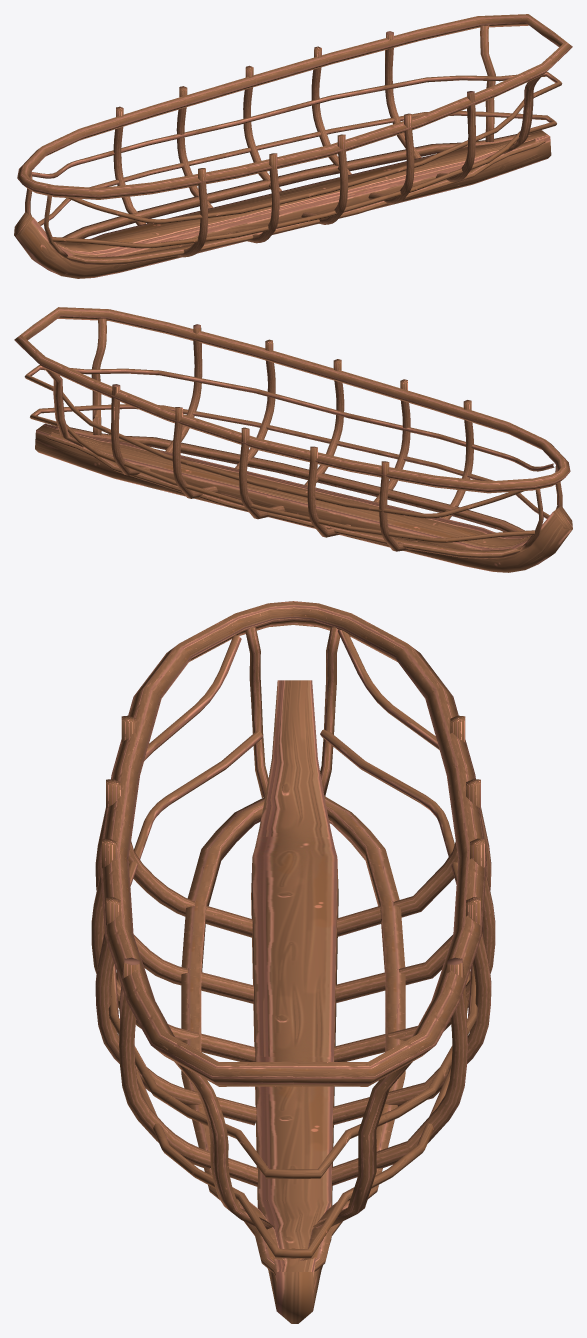
The model's file is SM_Ship_Part_01.gltf.
3 views of the same model, one above another, from view 1: azimuth 30°, elevation 25°; view 2: azimuth 150°, elevation 25°; view 3: azimuth 270°, elevation 25° (orthographic). The views are drawn at different scales.
Visible parts, largest first — view 1: SM_Ship_Part_01_LOD0; view 2: SM_Ship_Part_01_LOD0; view 3: SM_Ship_Part_01_LOD0.
Boxes of the visible parts, bbox=[...] form: SM_Ship_Part_01_LOD0: bbox=[14, 14, 572, 278]; SM_Ship_Part_01_LOD0: bbox=[14, 307, 572, 572]; SM_Ship_Part_01_LOD0: bbox=[91, 601, 495, 1323].
Size of what is drawn, in the model's own units: 38.4 by 9.11 by 12.42.
Materials: 1 (1 with a texture image).
